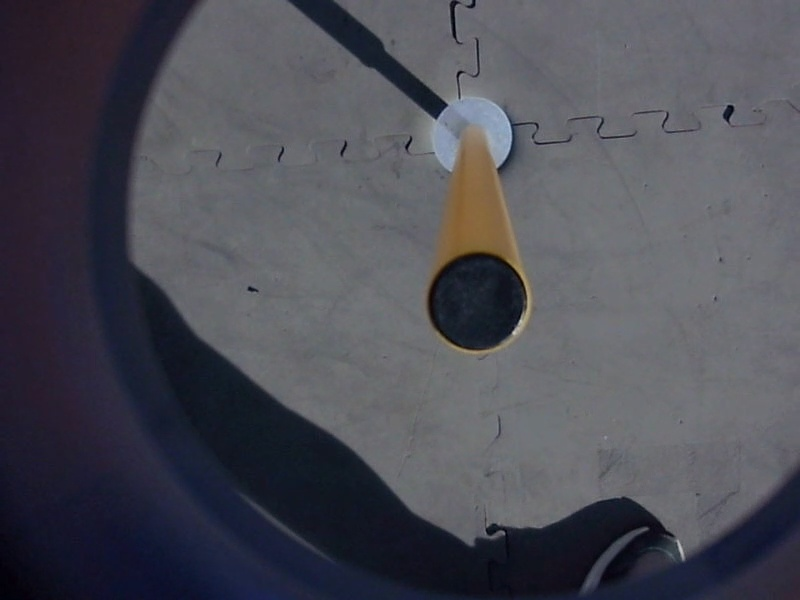tip: (422, 248, 536, 362)
